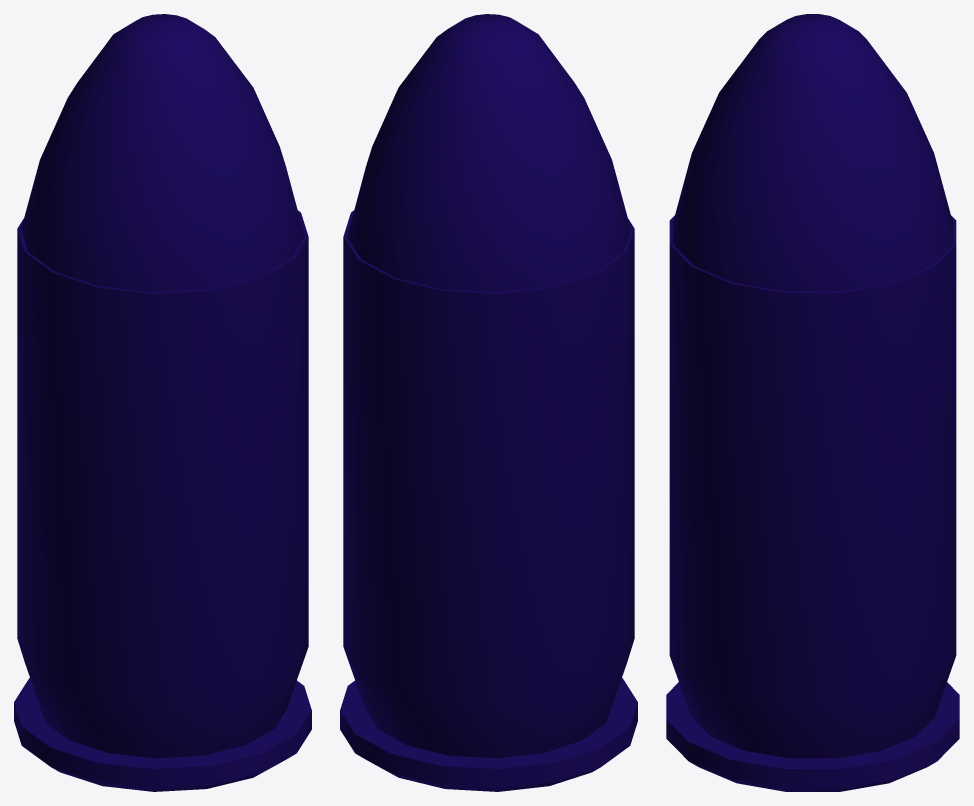
Rendered from Bullet_045_LOD0.FBX.
3 views of the same model, side by side, from view 1: azimuth 30°, elevation 25°; view 2: azimuth 150°, elevation 25°; view 3: azimuth 270°, elevation 25° (orthographic).
Parts seen in each view (by area): view 1: Shell_LOD0, Bullet_LOD0; view 2: Shell_LOD0, Bullet_LOD0; view 3: Shell_LOD0, Bullet_LOD0.
Boxes of the visible parts, x1=… form: Shell_LOD0: x1=14, y1=210, x2=311, y2=791; Bullet_LOD0: x1=21, y1=14, x2=304, y2=292; Shell_LOD0: x1=340, y1=210, x2=637, y2=791; Bullet_LOD0: x1=347, y1=14, x2=630, y2=292; Shell_LOD0: x1=666, y1=215, x2=959, y2=791; Bullet_LOD0: x1=673, y1=14, x2=952, y2=291.
Size of the model in its own units: 1.16 by 3.11 by 1.16.
